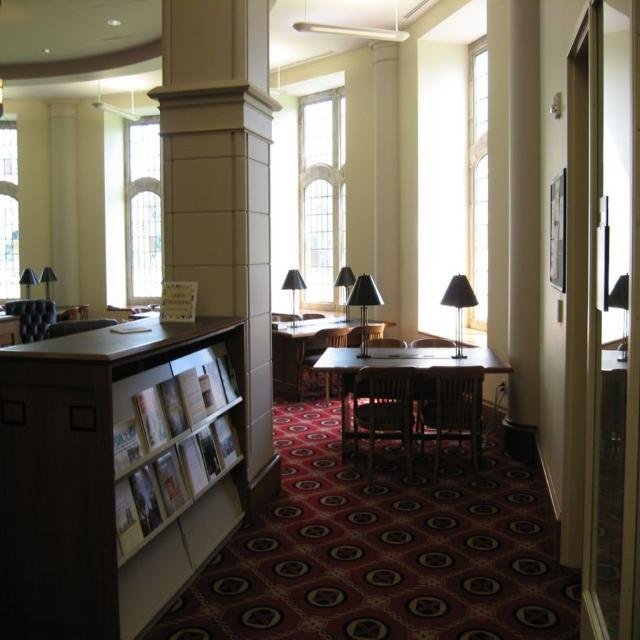chair: (346, 367, 414, 492), (416, 366, 484, 485)
desk: (273, 312, 397, 398)
